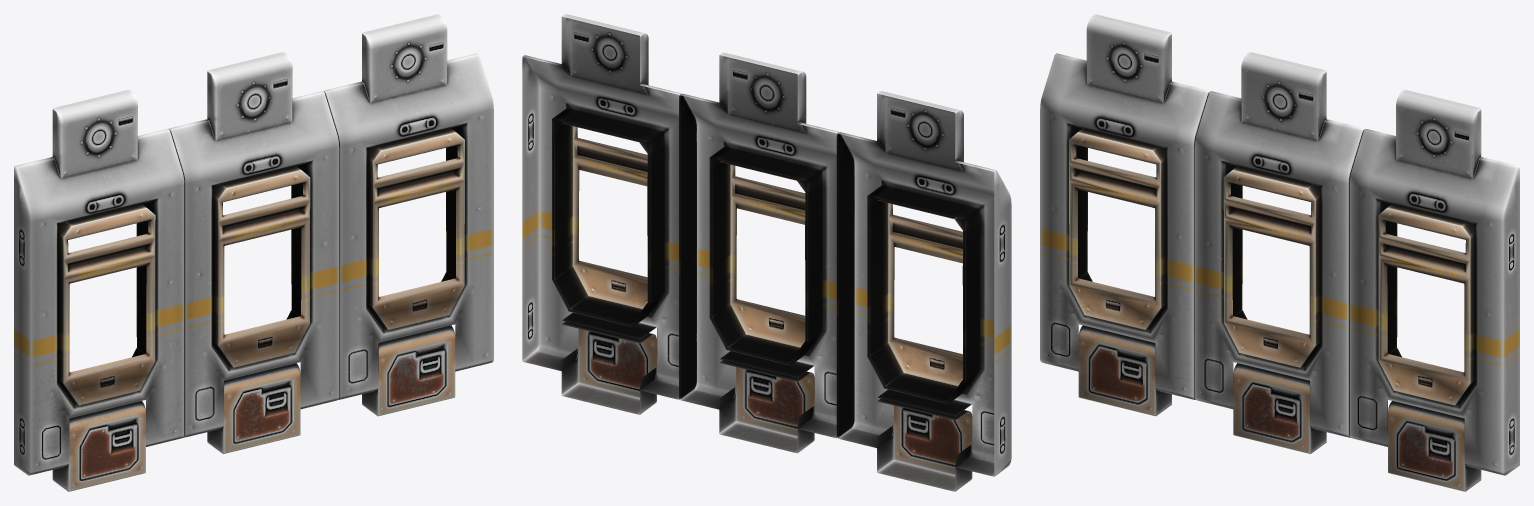
Rendered from comp.fbx.
The picture shows the model from 3 angles, left to right: view 1: azimuth 30°, elevation 25°; view 2: azimuth 150°, elevation 25°; view 3: azimuth 330°, elevation 25°; orthographic projection.
Visible parts, largest first — view 1: comp_LOD0; view 2: comp_LOD0; view 3: comp_LOD0.
Boxes of the visible parts, x1,y1,x2,y2 form: comp_LOD0: [14, 14, 493, 491]; comp_LOD0: [522, 14, 1011, 491]; comp_LOD0: [1040, 14, 1519, 491].
Size of what is drawn, in the model's own units: 64.24 by 49.33 by 4.51.
